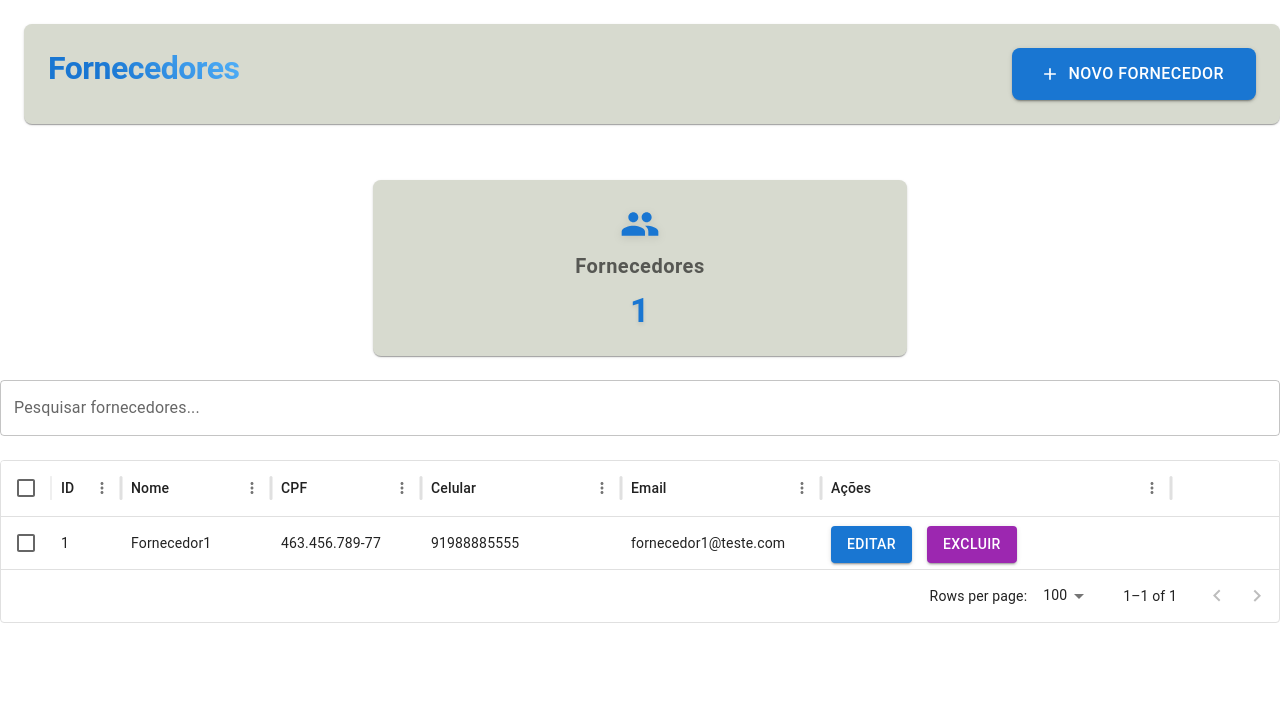
Componente Cliente › Exclui usuário com confirmação
expect the table is shown: met, box [1,461,1279,569]
What coordinates should you click on to do the following:
click the button "Excluir"
I would click on:
 (972, 544)
Its box is [927,526,1017,562].
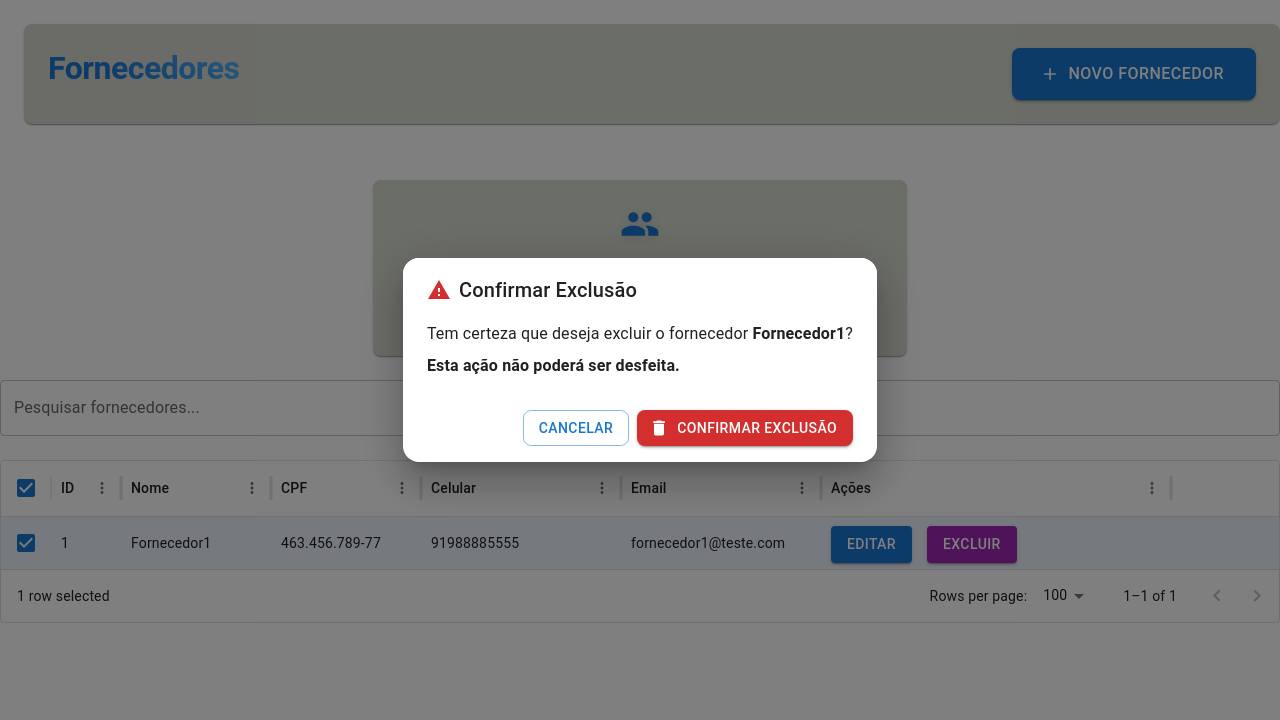
expect the dialog shows "Confirmar Exclusão": met, box [459,278,637,302]
expect the dialog shows "Fornecedor1": met, box [752,324,845,343]
